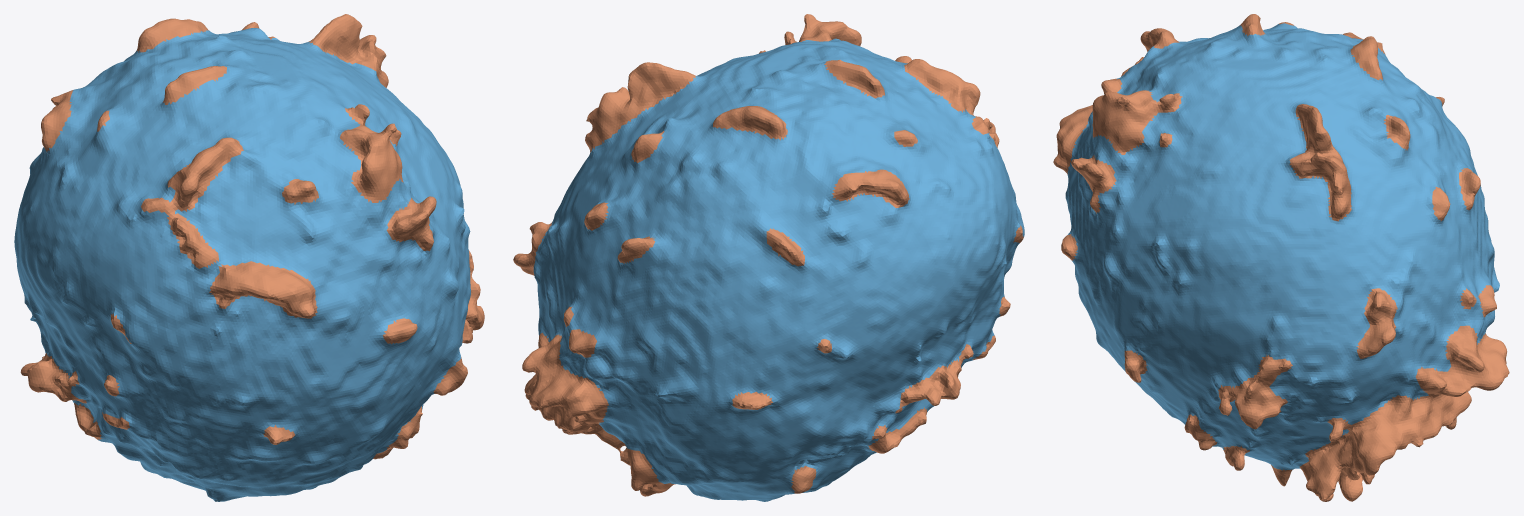
The picture shows the model from 3 angles, left to right: view 1: azimuth 30°, elevation 25°; view 2: azimuth 150°, elevation 25°; view 3: azimuth 270°, elevation 25°; orthographic projection. The views are drawn at different scales.
Size of the model in its own units: 127 by 129 by 130.
